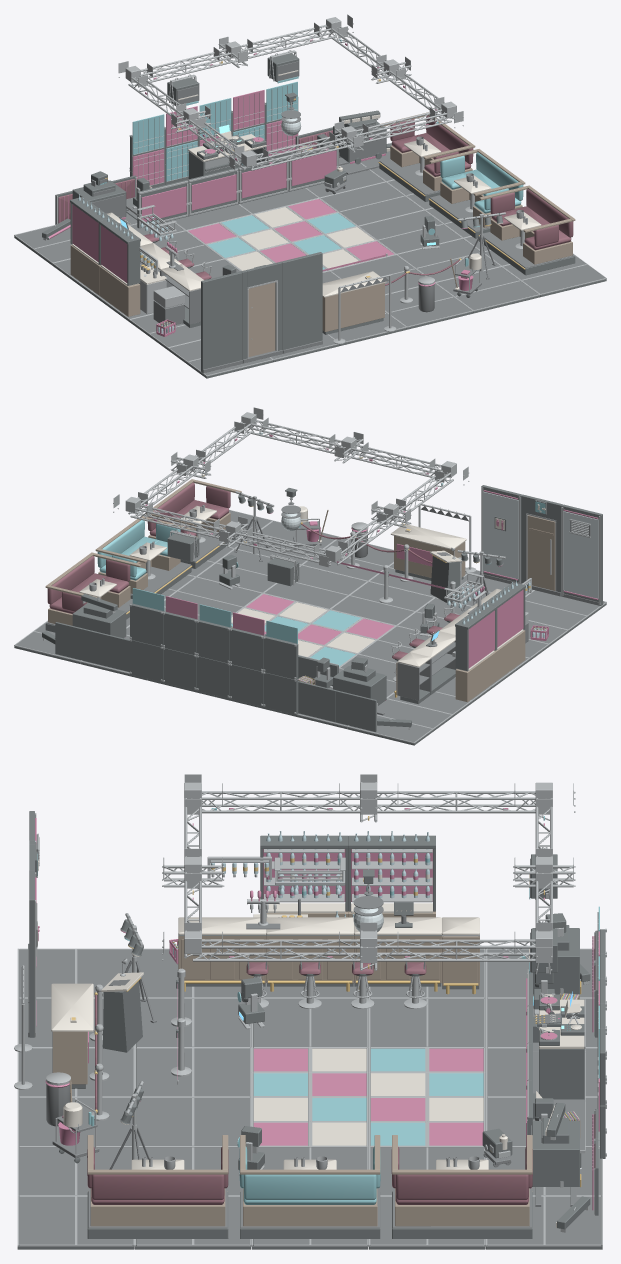
The model's file is lantern-club-nightclub.glb.
3 views of the same model, one above another, from view 1: azimuth 30°, elevation 25°; view 2: azimuth 150°, elevation 25°; view 3: azimuth 270°, elevation 25° (orthographic). The views are drawn at different scales.
Parts seen in each view (by area): view 1: 000-dance-floor-tile-module/1, 000-dance-floor-tile-module/2, 000-dance-floor-tile-module/0, 026-led-floor-tile-module/1, 059-record-crate/0, 027-led-floor-tile-module-cyan/1, 028-led-floor-tile-module-pale/1, 119-bar-stool/1, 109-back-bar-shelving-unit/5, 052-dj-mixer/3; view 2: 000-dance-floor-tile-module/0, 000-dance-floor-tile-module/1, 000-dance-floor-tile-module/2, 059-record-crate/0, 026-led-floor-tile-module/1, 028-led-floor-tile-module-pale/1, 100-disco-ball-on-motor/ball, 027-led-floor-tile-module-cyan/1, 119-bar-stool/1, 109-back-bar-shelving-unit/5; view 3: 000-dance-floor-tile-module/1, 000-dance-floor-tile-module/2, 000-dance-floor-tile-module/0, 059-record-crate/0, 028-led-floor-tile-module-pale/1, 026-led-floor-tile-module/1, 027-led-floor-tile-module-cyan/1, 119-bar-stool/1, 109-back-bar-shelving-unit/5, 052-dj-mixer/3.
Boxes of the visible parts, x1,y1,x2,y2 form: 000-dance-floor-tile-module/1: (15, 61, 605, 375); 000-dance-floor-tile-module/2: (14, 14, 606, 376); 000-dance-floor-tile-module/0: (14, 53, 606, 378); 026-led-floor-tile-module/1: (49, 39, 473, 336); 059-record-crate/0: (70, 112, 575, 356); 027-led-floor-tile-module-cyan/1: (100, 39, 523, 271); 028-led-floor-tile-module-pale/1: (72, 70, 541, 297); 119-bar-stool/1: (58, 115, 573, 285); 109-back-bar-shelving-unit/5: (78, 194, 173, 333); 052-dj-mixer/3: (105, 61, 525, 327); 000-dance-floor-tile-module/0: (14, 485, 606, 745); 000-dance-floor-tile-module/1: (16, 502, 605, 742); 000-dance-floor-tile-module/2: (14, 407, 606, 743); 059-record-crate/0: (45, 479, 555, 702); 026-led-floor-tile-module/1: (125, 434, 598, 700); 028-led-floor-tile-module-pale/1: (79, 501, 545, 683); 100-disco-ball-on-motor/ball: (281, 491, 598, 598); 027-led-floor-tile-module-cyan/1: (97, 432, 545, 683); 119-bar-stool/1: (47, 482, 459, 659); 109-back-bar-shelving-unit/5: (447, 580, 546, 638); 000-dance-floor-tile-module/1: (19, 834, 601, 1245); 000-dance-floor-tile-module/2: (14, 774, 606, 1246); 000-dance-floor-tile-module/0: (17, 811, 605, 1249); 059-record-crate/0: (52, 911, 580, 1226); 028-led-floor-tile-module-pale/1: (37, 857, 584, 1227); 026-led-floor-tile-module/1: (35, 808, 599, 1210); 027-led-floor-tile-module-cyan/1: (37, 808, 599, 1204); 119-bar-stool/1: (87, 936, 595, 1204); 109-back-bar-shelving-unit/5: (172, 831, 430, 958); 052-dj-mixer/3: (71, 816, 581, 1187).
Bounding box in the file's own units: 12 × 4.54 × 10.13.
